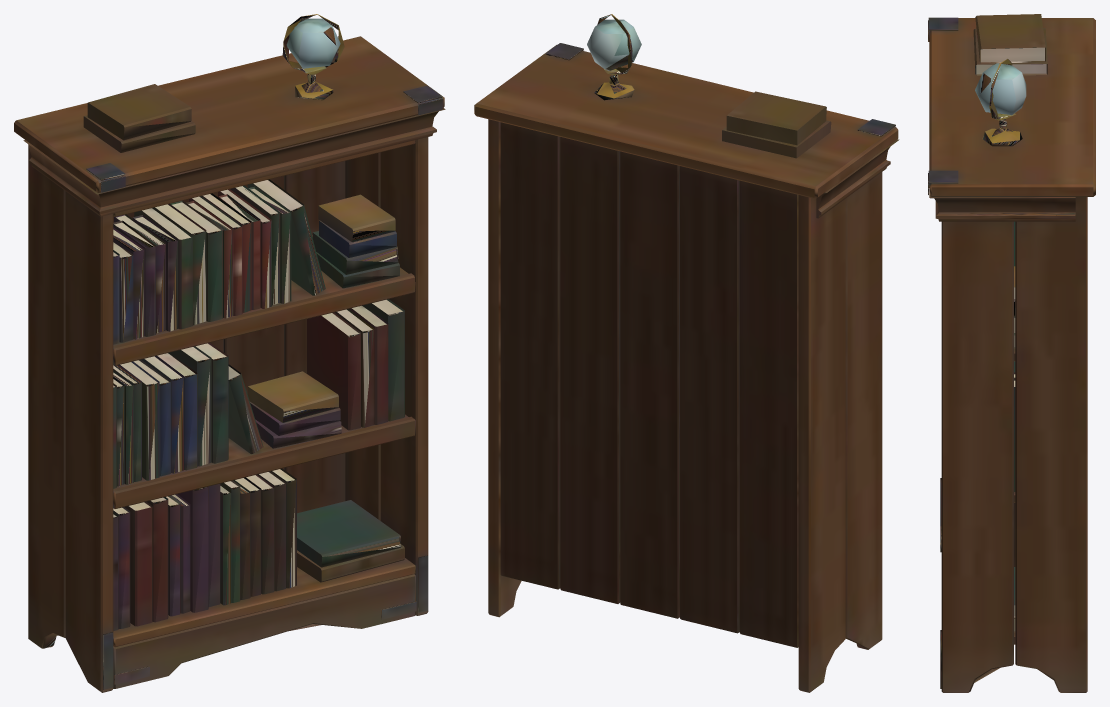
File: bookshelf.low.glb
3 views of the same model, side by side, from view 1: azimuth 30°, elevation 25°; view 2: azimuth 150°, elevation 25°; view 3: azimuth 270°, elevation 25° (orthographic).
Parts seen in each view (by area): view 1: bookshelf; view 2: bookshelf; view 3: bookshelf.
Part boxes in pixels (left/top/right/bottom): bookshelf: left=14, top=14, right=445, bottom=692; bookshelf: left=474, top=14, right=899, bottom=692; bookshelf: left=928, top=14, right=1095, bottom=692.
Bounding box in the file's own units: 0.98 × 1.61 × 0.4131.
1 material, 1 textured.
